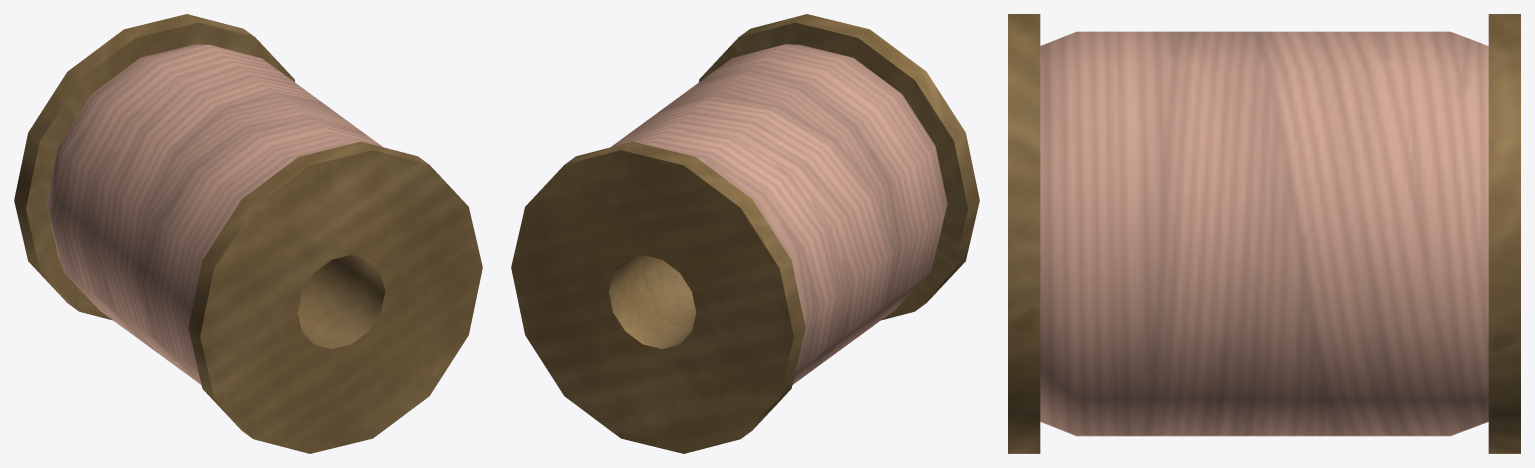
Rendered from ito.fbx.
3 views of the same model, side by side, from view 1: azimuth 30°, elevation 25°; view 2: azimuth 150°, elevation 25°; view 3: azimuth 270°, elevation 25° (orthographic). The views are drawn at different scales.
Parts seen in each view (by area): view 1: pCylinder1; view 2: pCylinder1; view 3: pCylinder1.
Boxes of the visible parts, left/top/right/bottom form: pCylinder1: left=14, top=14, right=482, bottom=453; pCylinder1: left=511, top=14, right=979, bottom=453; pCylinder1: left=1008, top=14, right=1520, bottom=453.
Bounding box in the file's own units: 7.02 × 6.85 × 8.
1 material, 1 textured.
